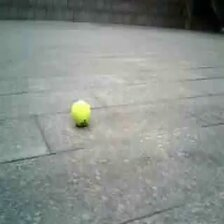tennis: (70, 101, 91, 126)
